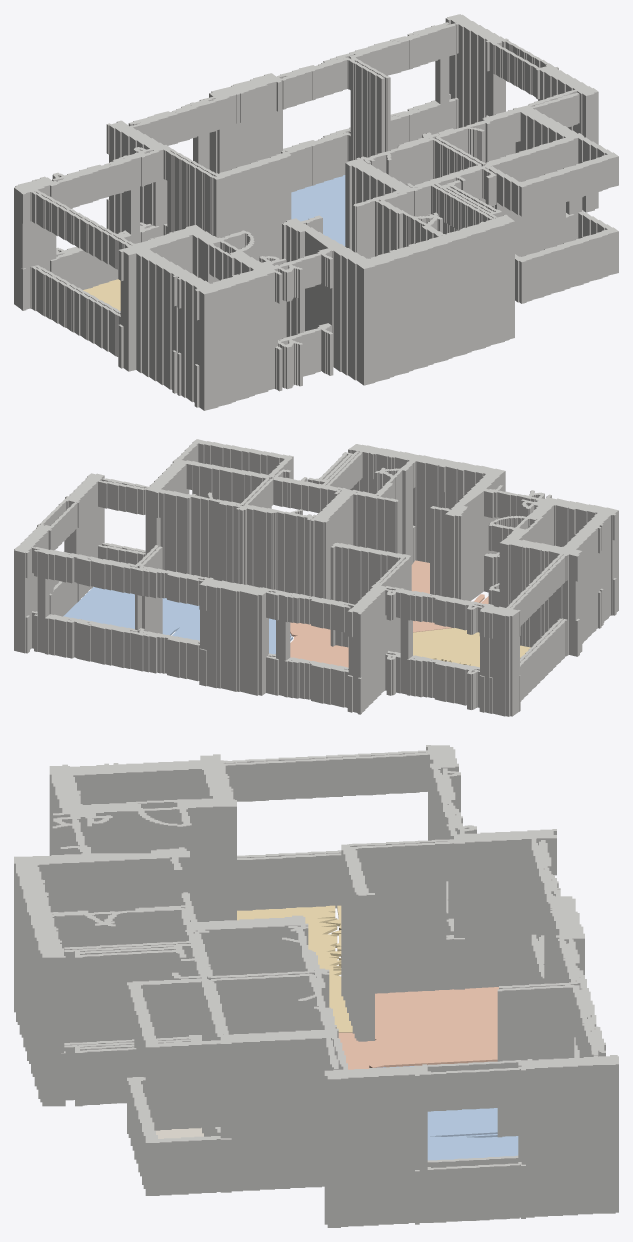
3 views of the same model, one above another, from view 1: azimuth 30°, elevation 25°; view 2: azimuth 150°, elevation 25°; view 3: azimuth 270°, elevation 25° (orthographic). The views are drawn at different scales.
Parts seen in each view (by area): view 1: walls, room:bedroom:1, room:living:0; view 2: walls, room:bedroom:1, room:kitchen:3, room:living:2; view 3: walls, room:kitchen:3, room:bedroom:1, room:living:2.
Part boxes in pixels (left/top/right/bottom): walls: left=14, top=14, right=618, bottom=410; room:bedroom:1: left=291, top=175, right=345, bottom=246; room:living:0: left=83, top=279, right=120, bottom=310; walls: left=14, top=439, right=618, bottom=716; room:bedroom:1: left=63, top=587, right=292, bottom=654; room:kitchen:3: left=290, top=560, right=488, bottom=667; room:living:2: left=413, top=628, right=530, bottom=667; walls: left=14, top=745, right=618, bottom=1227; room:kitchen:3: left=338, top=987, right=498, bottom=1069; room:bedroom:1: left=377, top=1065, right=518, bottom=1160; room:living:2: left=237, top=905, right=352, bottom=1032.
Bounding box in the file's own units: 13.5 × 2.8 × 10.33.
